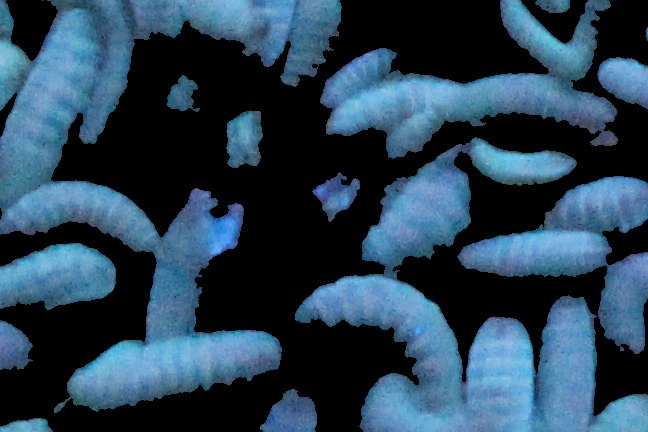larvae: (293, 272, 479, 420), (1, 8, 100, 189), (69, 330, 283, 408), (142, 180, 245, 339), (445, 73, 622, 158), (351, 151, 477, 264), (1, 181, 167, 253), (1, 243, 119, 318), (470, 303, 538, 432), (539, 295, 601, 432), (325, 74, 454, 139), (534, 164, 647, 237), (458, 235, 619, 285), (494, 1, 609, 68), (80, 1, 129, 154), (272, 1, 339, 104), (470, 135, 576, 184), (316, 45, 403, 101), (602, 248, 648, 350), (239, 1, 289, 65), (593, 52, 648, 107), (385, 108, 444, 157), (1, 1, 91, 9)
